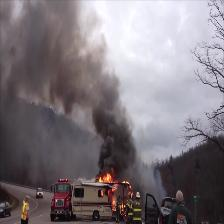fire: (99, 173, 113, 184)
smoke: (27, 6, 77, 95), (102, 124, 130, 171), (85, 57, 107, 115)
